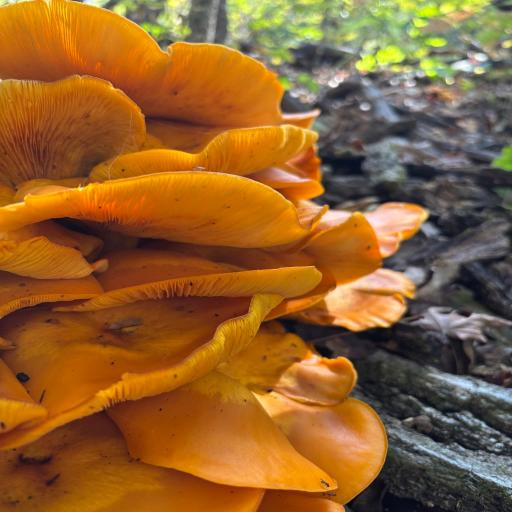Jack O Lantern Mushroom: (0, 270, 285, 438), (0, 0, 319, 135), (0, 168, 306, 283), (113, 376, 351, 502), (266, 191, 455, 337), (80, 116, 343, 189), (0, 75, 151, 186)
